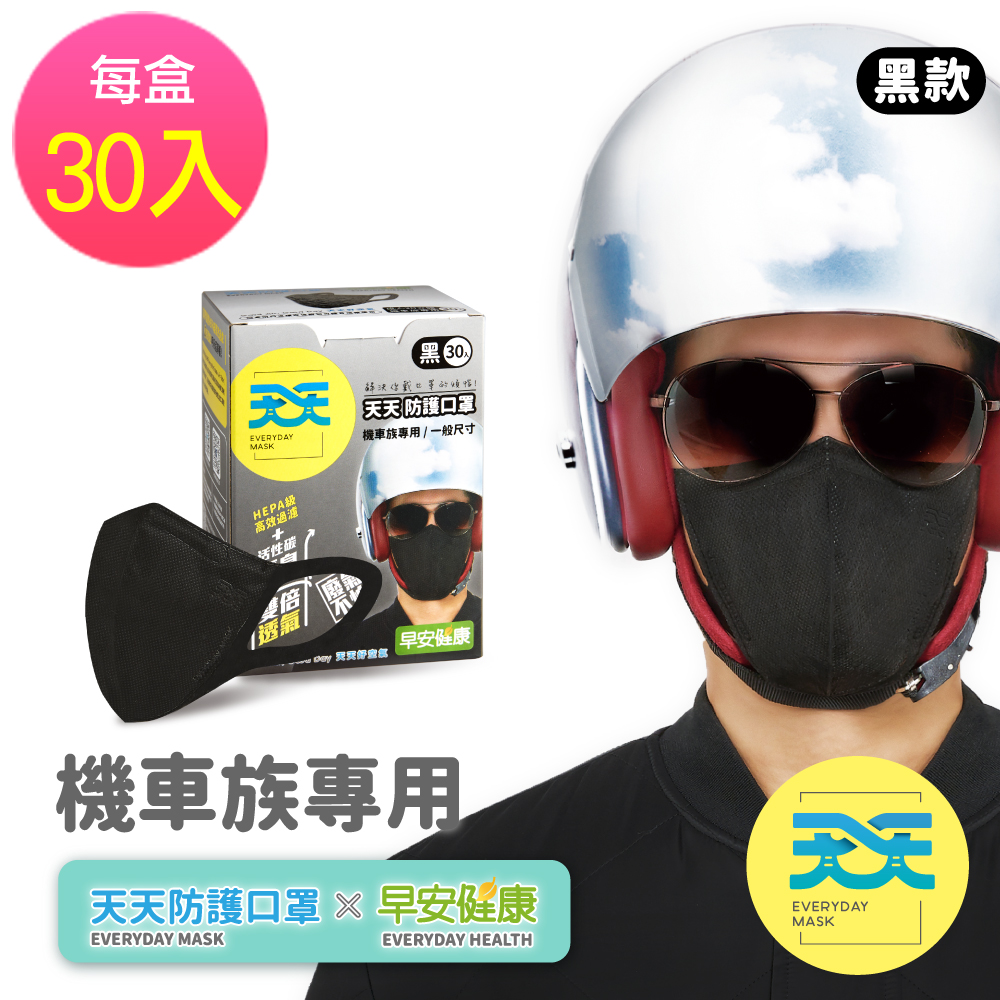Mask: (634, 295, 993, 716)
